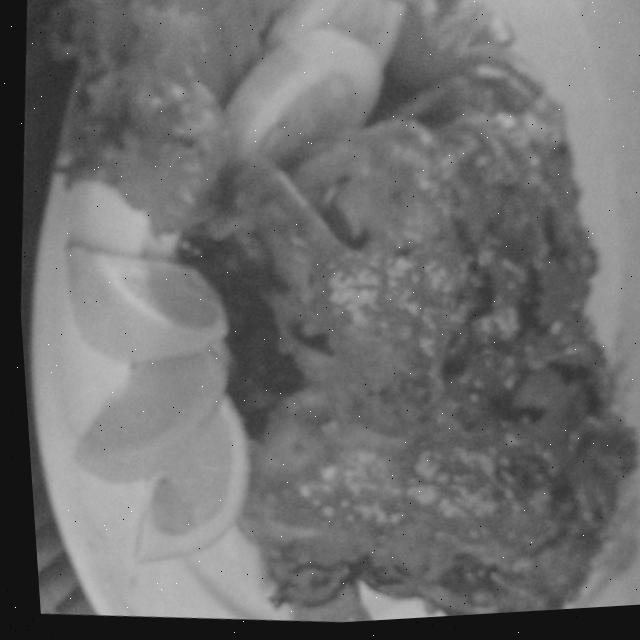鸡肉料理 含炸鸡: (29, 0, 640, 639)
